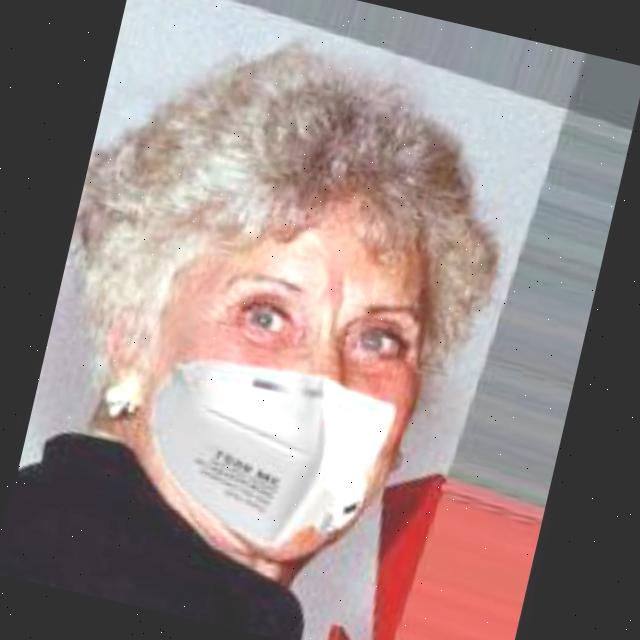suspicion: (4, 34, 530, 616)
